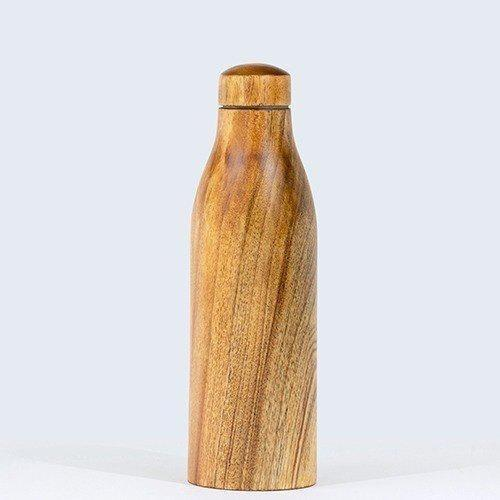gym bottle: (184, 62, 324, 495)
